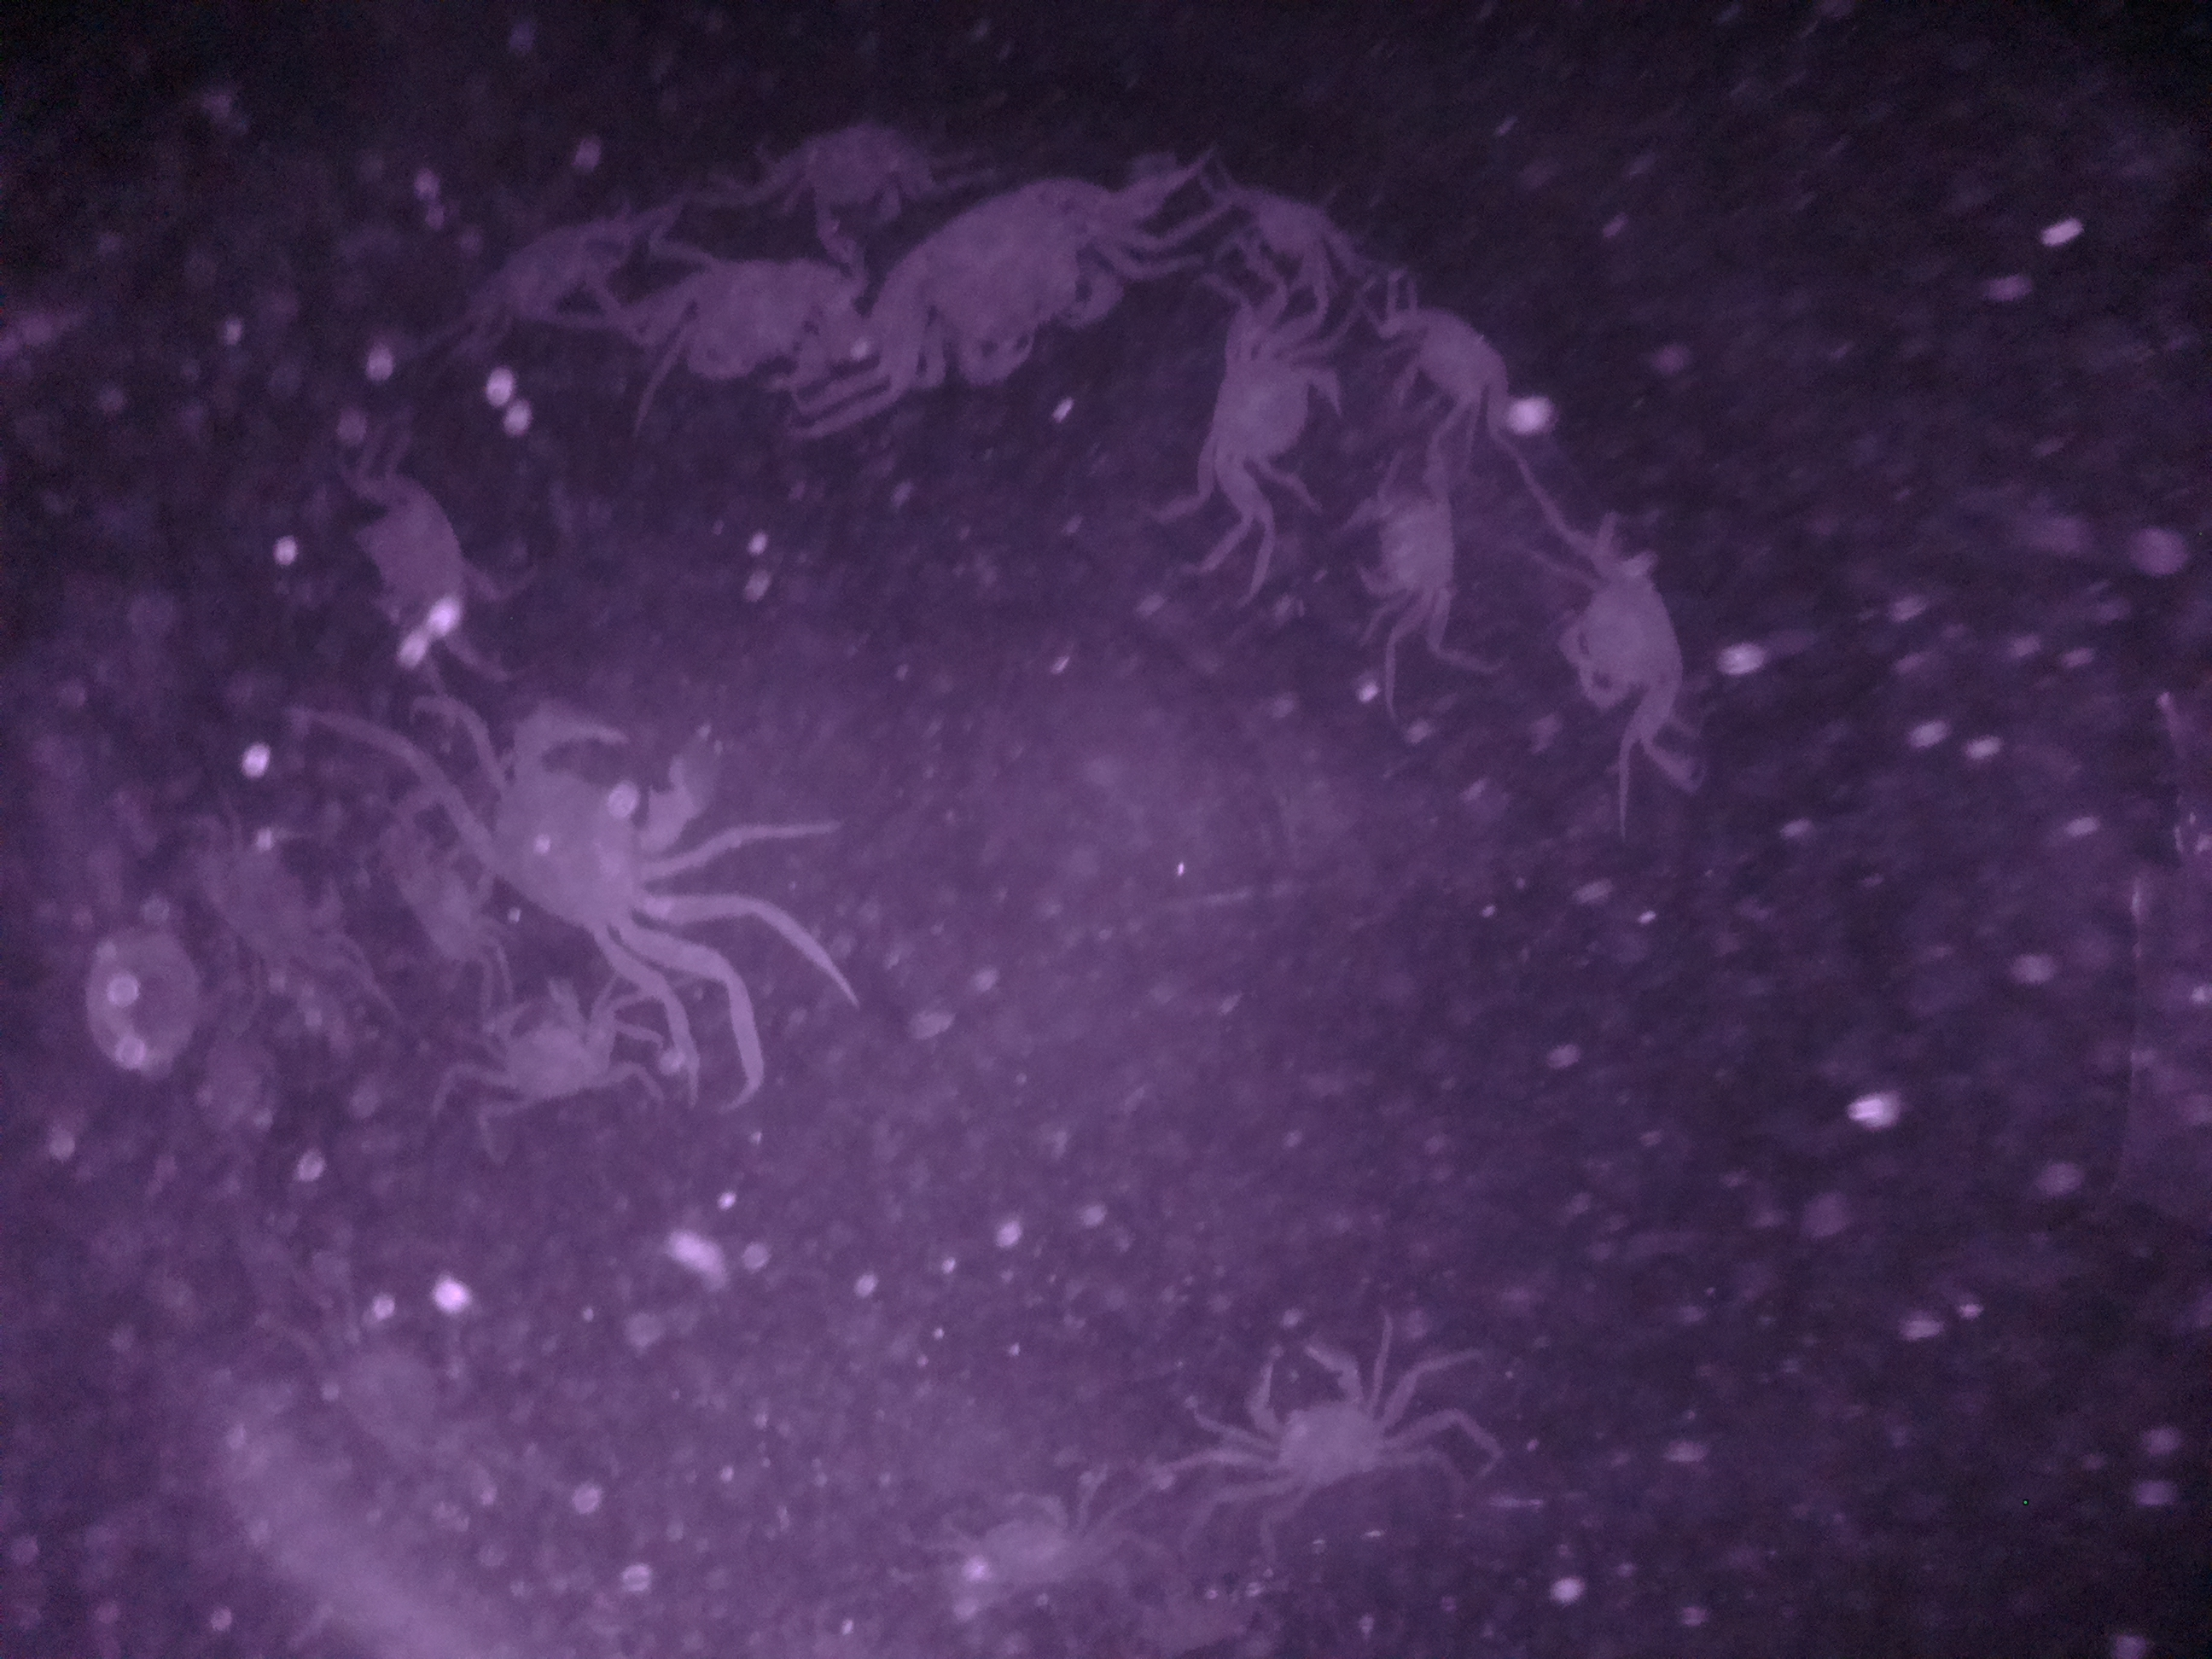Crab: (895, 164, 1137, 415), (1202, 1328, 1433, 1507), (1169, 301, 1348, 530), (1548, 538, 1710, 758), (1338, 472, 1487, 641)
